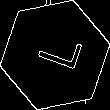L_W: (27, 32, 83, 78)
